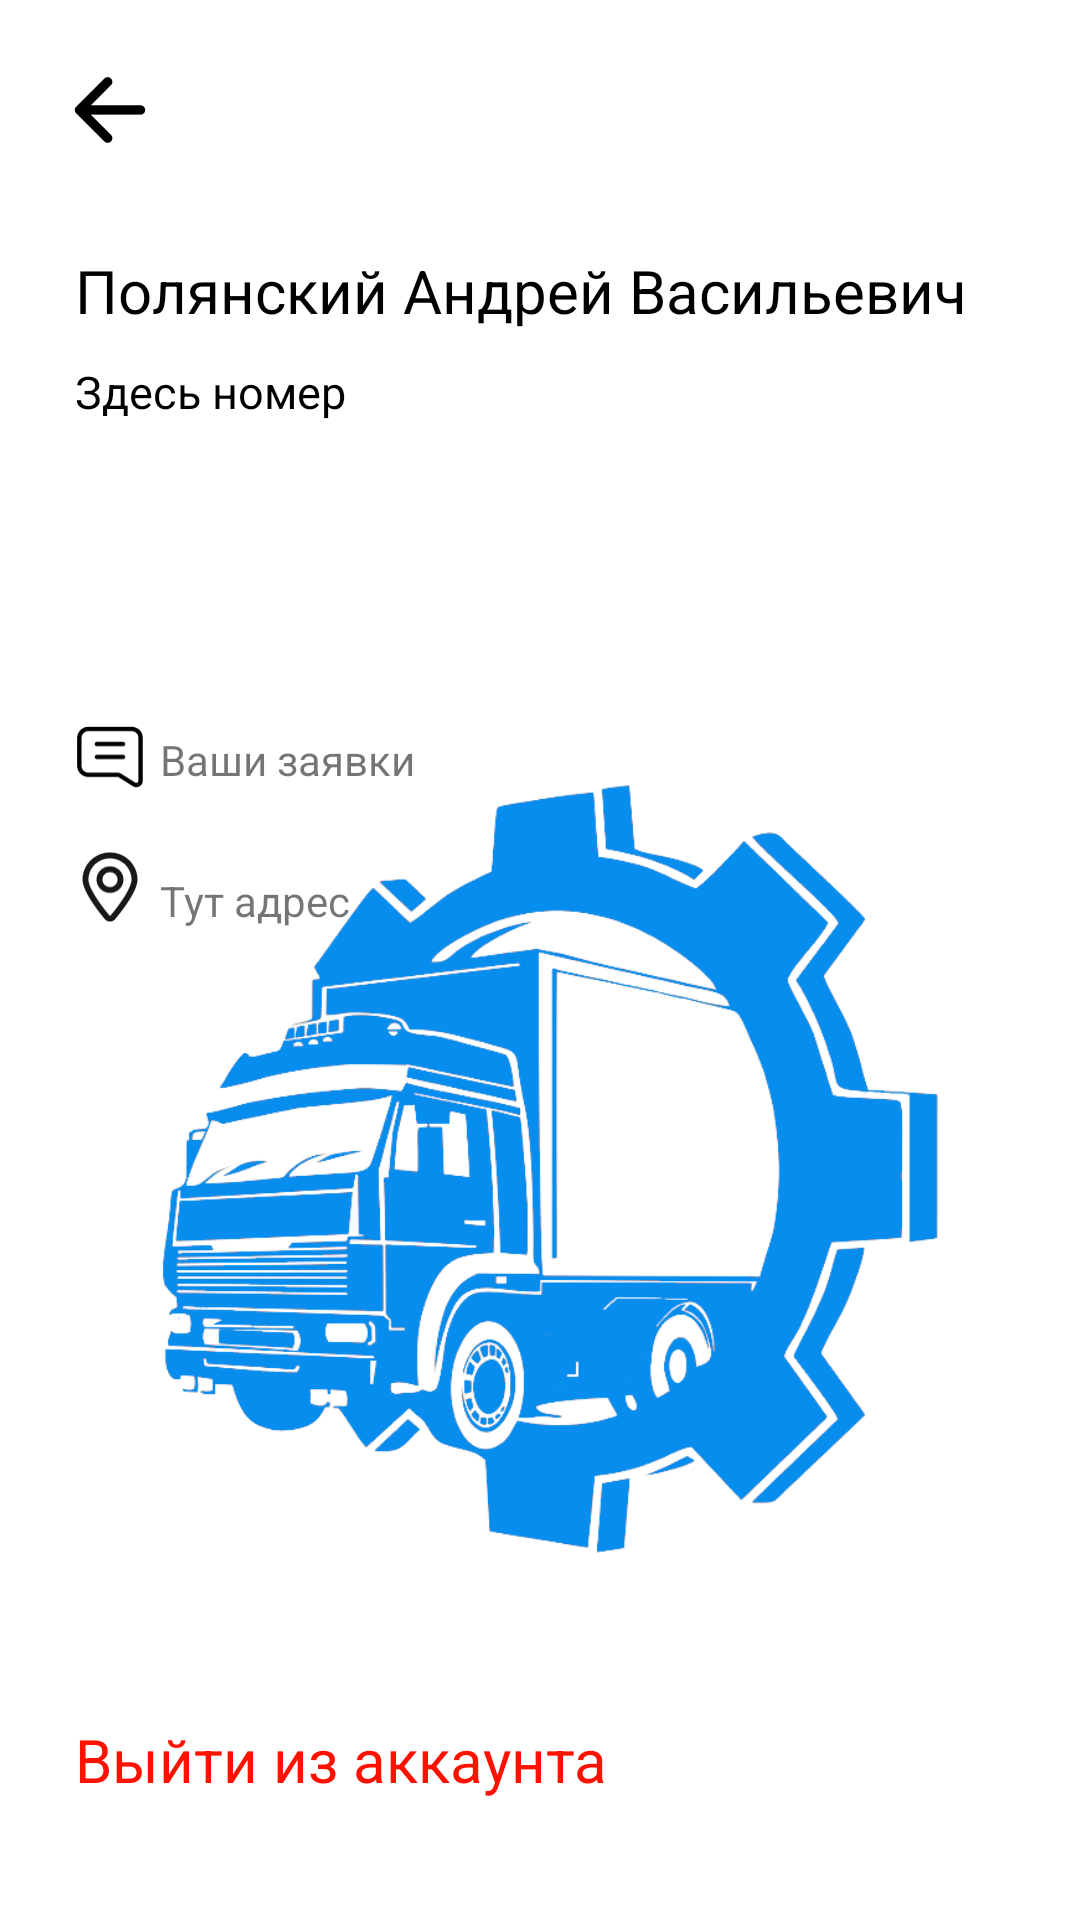

Screen size 1080px×1920px. Icon name, then its center in pixels as (x,y):
back: (110,110)
maaap: (110,887)
